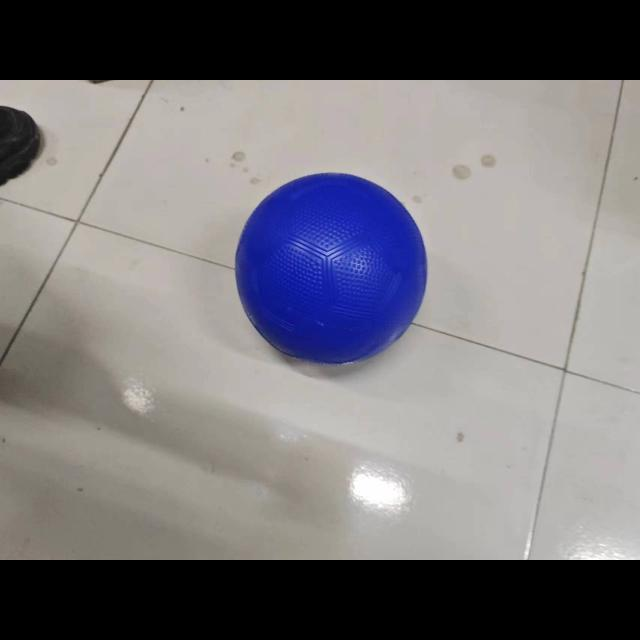B: (227, 169, 428, 365)
